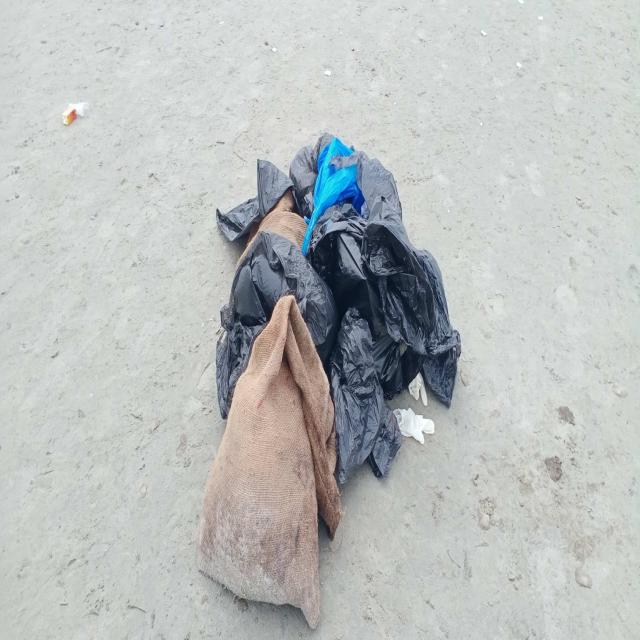nhua: (216, 150, 461, 417), (329, 307, 402, 484), (216, 131, 334, 238)
